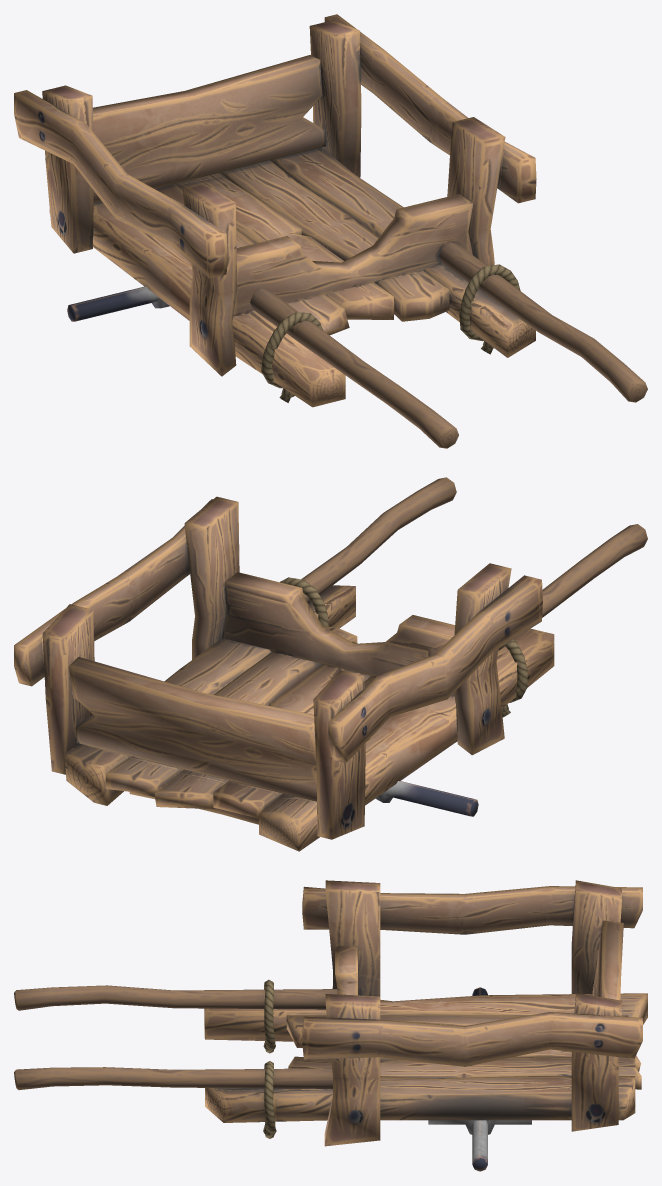
File: car.fbx
The picture shows the model from 3 angles, top to bottom: view 1: azimuth 30°, elevation 25°; view 2: azimuth 150°, elevation 25°; view 3: azimuth 270°, elevation 25°; orthographic projection. The views are drawn at different scales.
Visible parts, largest first — view 1: Wagon_LowPoly; view 2: Wagon_LowPoly; view 3: Wagon_LowPoly.
Part boxes in pixels (<box>): Wagon_LowPoly: <box>14,14,647,448</box>; Wagon_LowPoly: <box>14,477,647,851</box>; Wagon_LowPoly: <box>14,880,647,1171</box>.
Bounding box in the file's own units: 2949 × 1265 × 4647.
